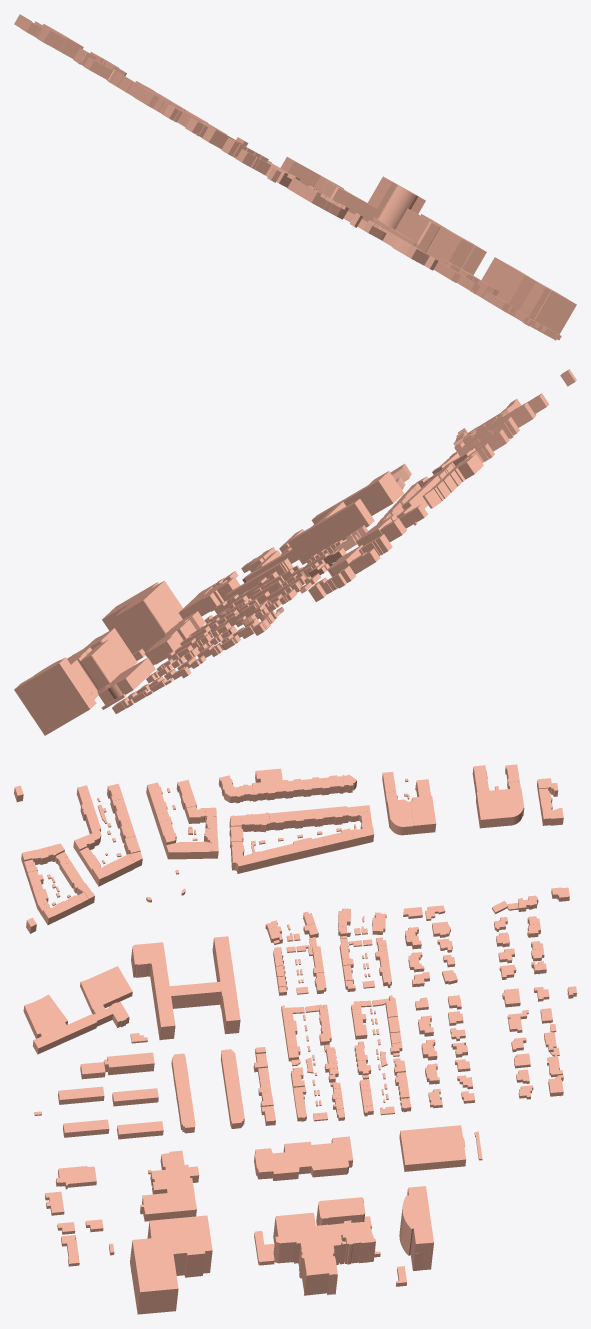
The picture shows the model from 3 angles, top to bottom: view 1: azimuth 30°, elevation 25°; view 2: azimuth 150°, elevation 25°; view 3: azimuth 270°, elevation 25°; orthographic projection. The views are drawn at different scales.
Size of the model in its own units: 591 by 422 by 625.
